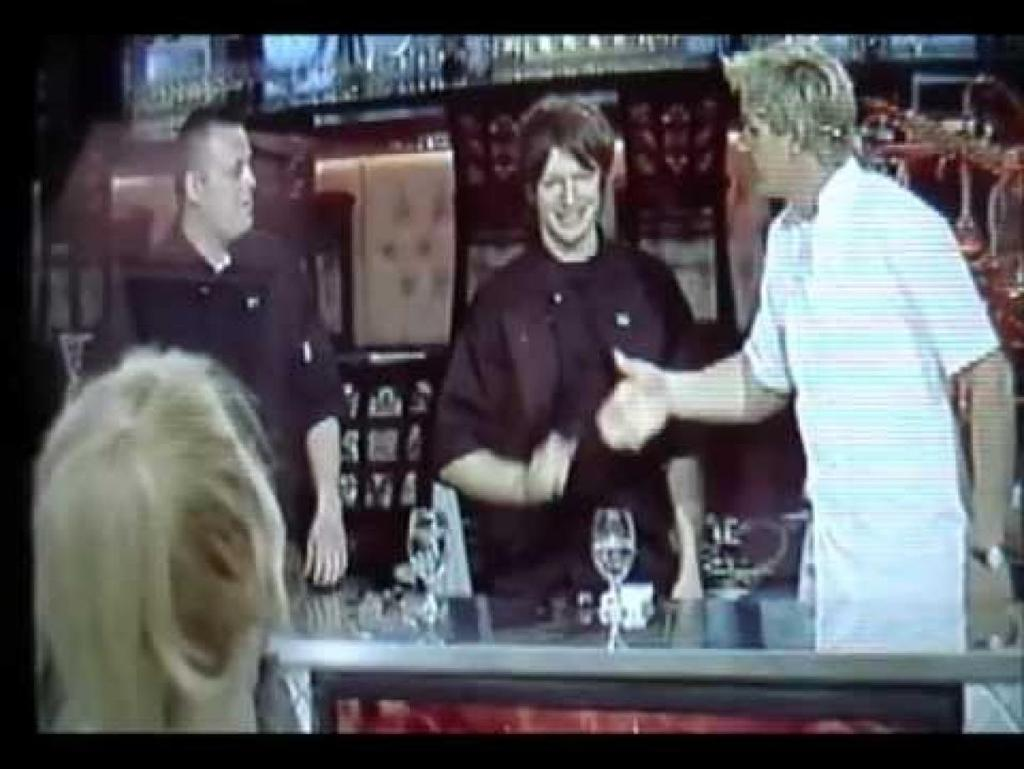face: (736, 79, 798, 196), (536, 146, 600, 239), (203, 127, 257, 228)
